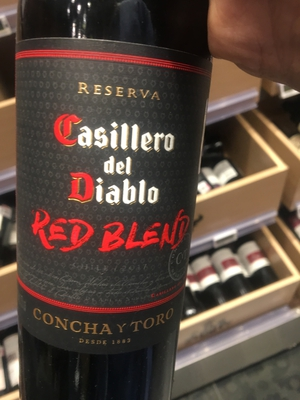casillero del diablo red blend: (3, 12, 231, 390)
